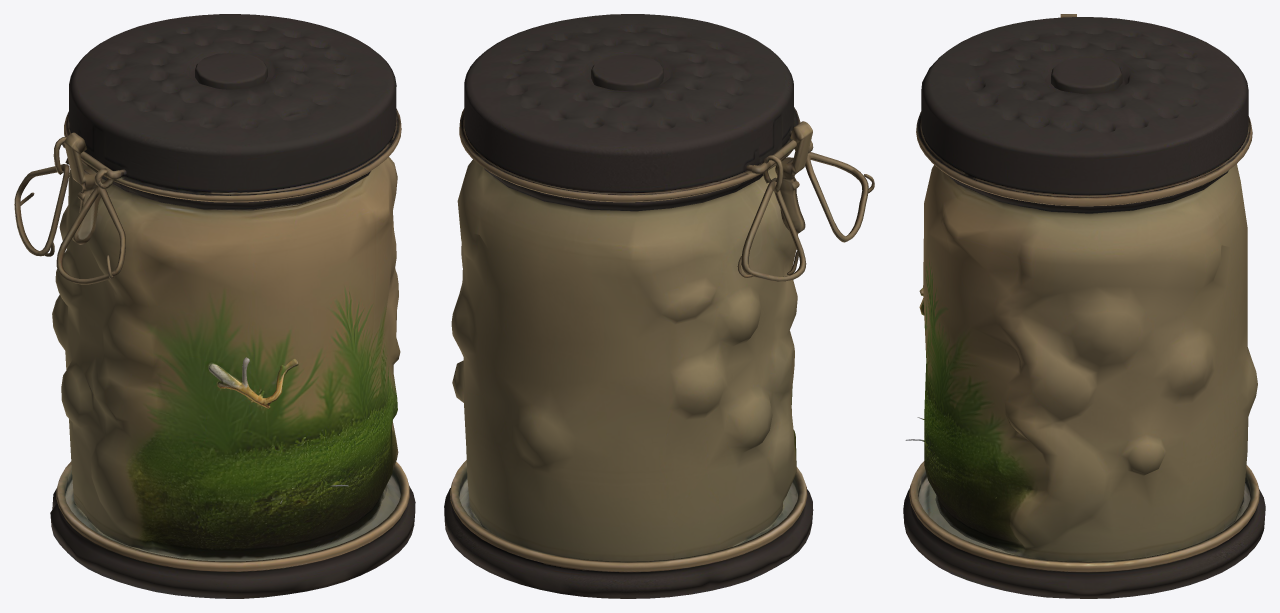
Rendered from firefly-terrarium.glb.
3 views of the same model, side by side, from view 1: azimuth 30°, elevation 25°; view 2: azimuth 150°, elevation 25°; view 3: azimuth 270°, elevation 25° (orthographic).
Visible parts, largest first — view 1: tripo_52071837_9e3f_433d_8cae_ce29373e7550; view 2: tripo_52071837_9e3f_433d_8cae_ce29373e7550; view 3: tripo_52071837_9e3f_433d_8cae_ce29373e7550.
Boxes of the visible parts, x1,y1,x2,y2 form: tripo_52071837_9e3f_433d_8cae_ce29373e7550: [14, 14, 415, 598]; tripo_52071837_9e3f_433d_8cae_ce29373e7550: [444, 14, 874, 598]; tripo_52071837_9e3f_433d_8cae_ce29373e7550: [903, 14, 1265, 598].
Size of the model in its own units: 0.8169 by 0.9995 by 0.729.
1 material, 1 textured.
